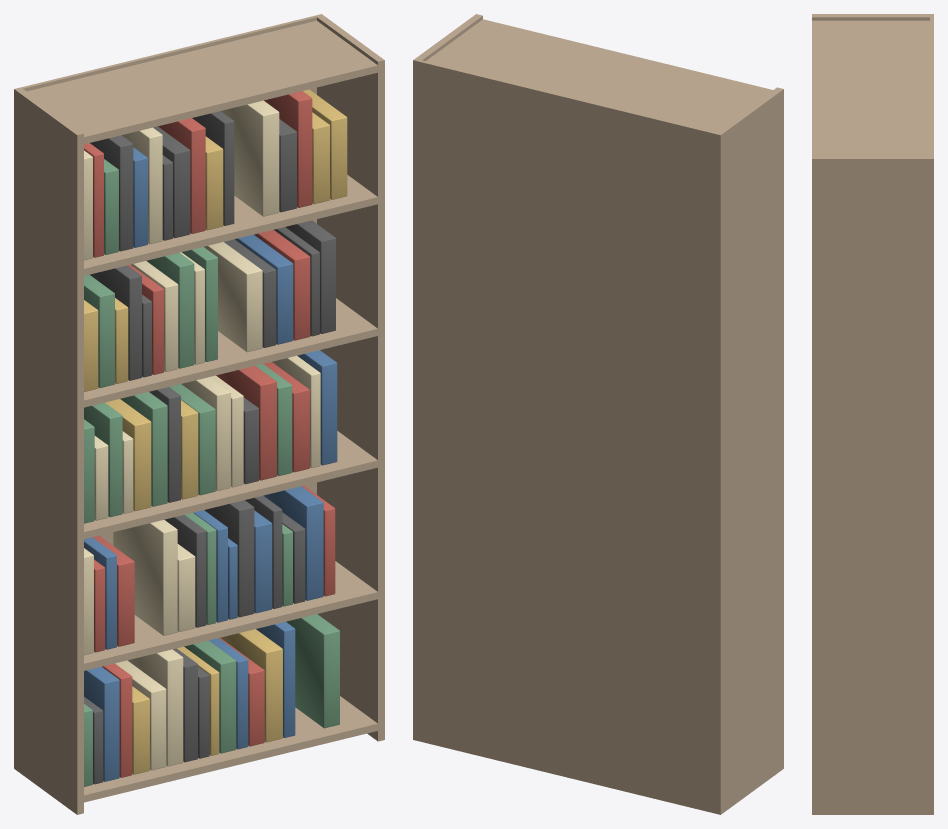
The model's file is bookcase.glb.
3 renders of one model, left to right at view 1: azimuth 30°, elevation 25°; view 2: azimuth 150°, elevation 25°; view 3: azimuth 270°, elevation 25°, orthographic. The views are drawn at different scales.
Visible parts, largest first — view 1: Cube, Cube.001, Cube.090, Cube.020, Cube.056, Cube.003, Cube.073, Cube.038, Cube.025, Cube.085, Cube.019, Cube.067 (+79 smaller); view 2: Cube.002, Cube, Cube.090, Cube.001, Cube.020, Cube.073, Cube.038, Cube.056, Cube.003; view 3: Cube.001, Cube.090, Cube.002, Cube.
Part boxes in pixels (x1=…): Cube: x1=14, y1=88, x2=83, y2=814; Cube.001: x1=315, y1=14, x2=384, y2=741; Cube.090: x1=27, y1=20, x2=377, y2=144; Cube.020: x1=84, y1=561, x2=377, y2=670; Cube.056: x1=84, y1=298, x2=377, y2=407; Cube.003: x1=84, y1=696, x2=377, y2=802; Cube.073: x1=84, y1=175, x2=377, y2=275; Cube.038: x1=84, y1=431, x2=377, y2=539; Cube.025: x1=113, y1=520, x2=177, y2=635; Cube.085: x1=221, y1=100, x2=279, y2=216; Cube.019: x1=286, y1=614, x2=339, y2=728; Cube.067: x1=204, y1=242, x2=262, y2=352; Cube.002: x1=413, y1=60, x2=722, y2=814; Cube: x1=714, y1=87, x2=783, y2=814; Cube.090: x1=420, y1=19, x2=772, y2=144; Cube.001: x1=413, y1=14, x2=482, y2=741; Cube.020: x1=420, y1=592, x2=713, y2=670; Cube.073: x1=420, y1=198, x2=713, y2=275; Cube.038: x1=420, y1=460, x2=713, y2=535; Cube.056: x1=420, y1=329, x2=713, y2=407; Cube.003: x1=420, y1=724, x2=674, y2=792; Cube.001: x1=812, y1=155, x2=933, y2=814; Cube.090: x1=812, y1=20, x2=929, y2=155; Cube.002: x1=930, y1=14, x2=933, y2=814; Cube: x1=812, y1=14, x2=933, y2=20.
Size of the model in its own units: 0.9 by 1.9 by 0.32.
